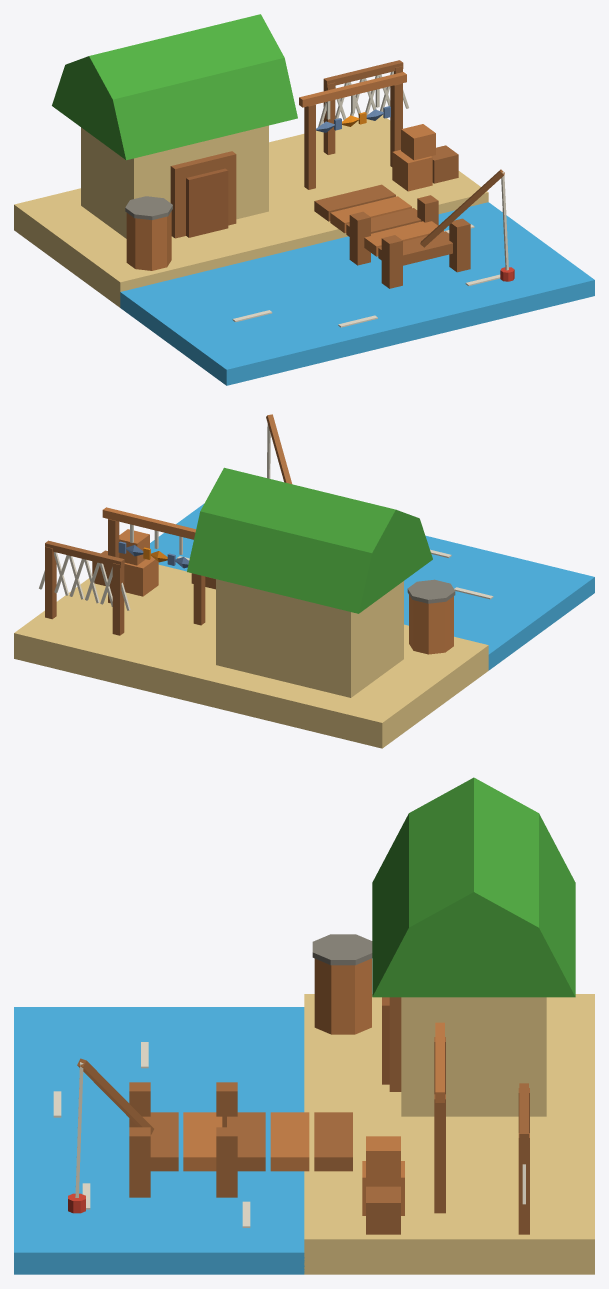
Rendered from fishery_t1_v3.glb.
The picture shows the model from 3 angles, top to bottom: view 1: azimuth 30°, elevation 25°; view 2: azimuth 150°, elevation 25°; view 3: azimuth 270°, elevation 25°; orthographic projection. The views are drawn at different scales.
Visible parts, largest first — view 1: fishery_t1_v3; view 2: fishery_t1_v3; view 3: fishery_t1_v3.
Boxes of the visible parts, box(x1,y1,x2,y2) form: fishery_t1_v3: box(14, 14, 594, 385); fishery_t1_v3: box(14, 414, 594, 748); fishery_t1_v3: box(14, 777, 594, 1274).
Size of the model in its own units: 0.6007 by 0.31 by 0.6.
1 material, 1 textured.
